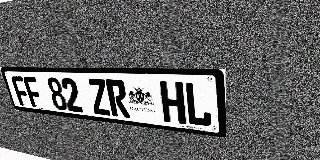2: (60, 78, 83, 113)
8: (45, 77, 68, 111)
F: (10, 76, 32, 107), (22, 77, 44, 108)
H: (159, 81, 186, 125)
L: (184, 82, 212, 127)
R: (105, 79, 130, 118)
Z: (87, 79, 112, 116)
